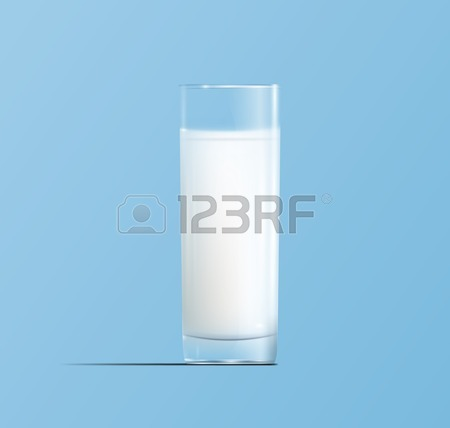glass of milk: (182, 148, 282, 362)
